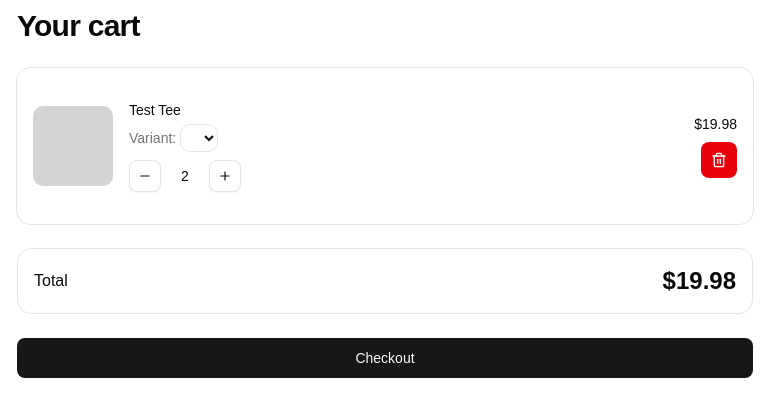
Test: Cart › updates quantity with +/- buttons
The width and height of the screenshot is (771, 395).
Click the button named "Increase quantity of Test Tee". click: x=225, y=176
box: [209, 160, 241, 192]
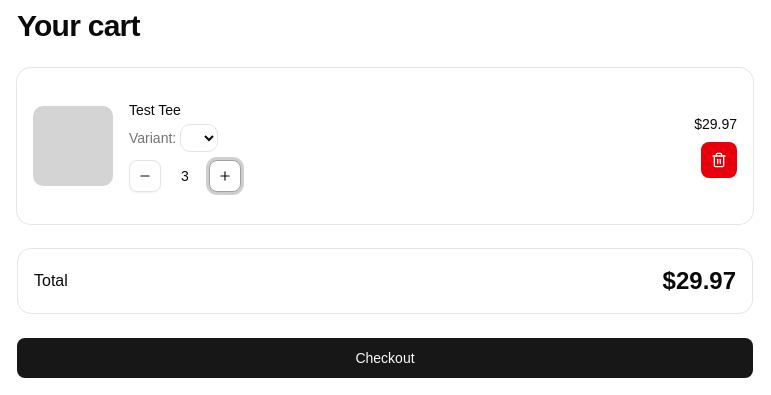
Expected: the text "$29.97" is shown 2 times, [694, 114, 737, 134]; [663, 265, 736, 297]
Result: the text "3" is shown at [181, 168, 189, 184]
